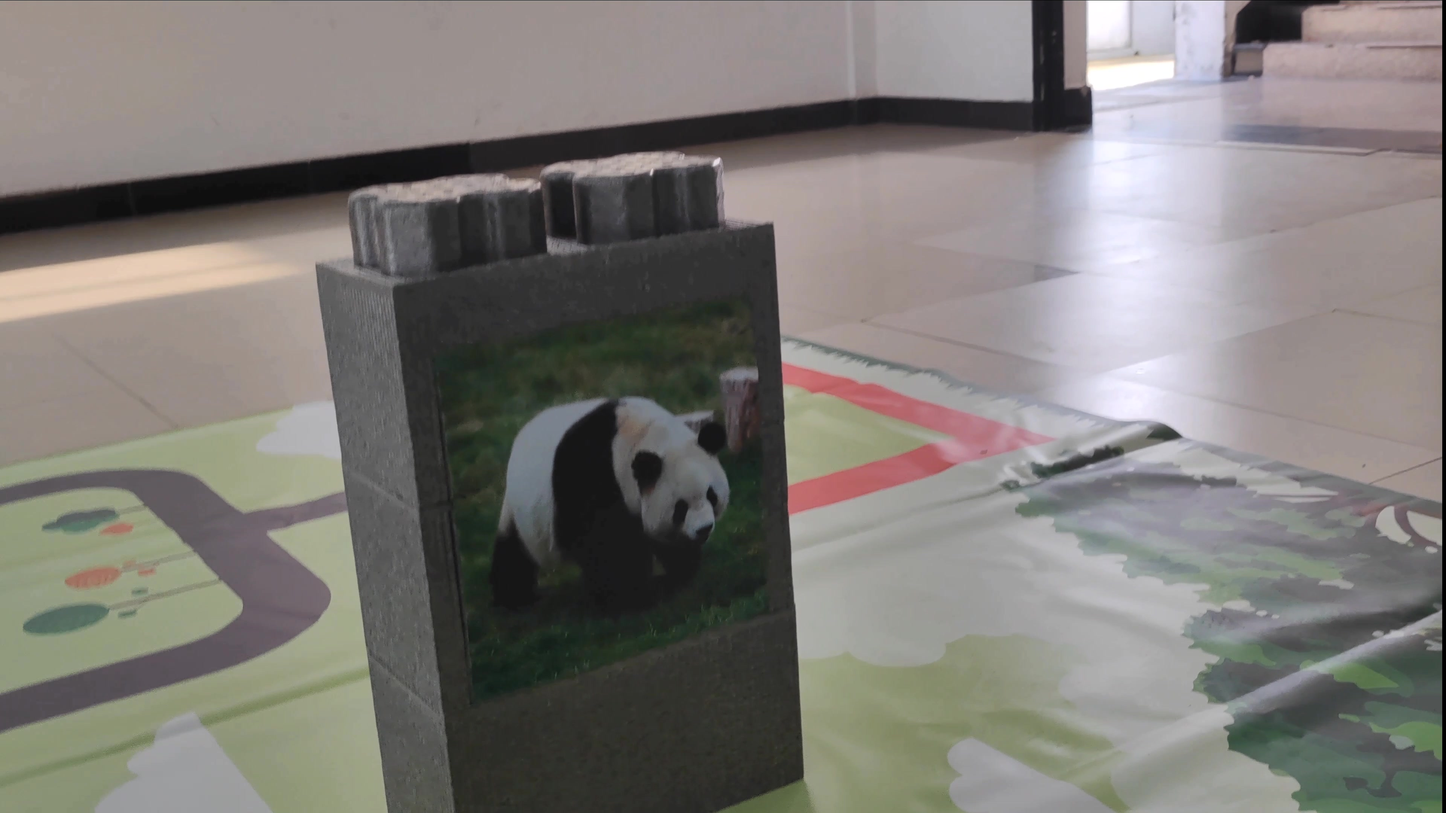panda: (474, 370, 766, 632)
